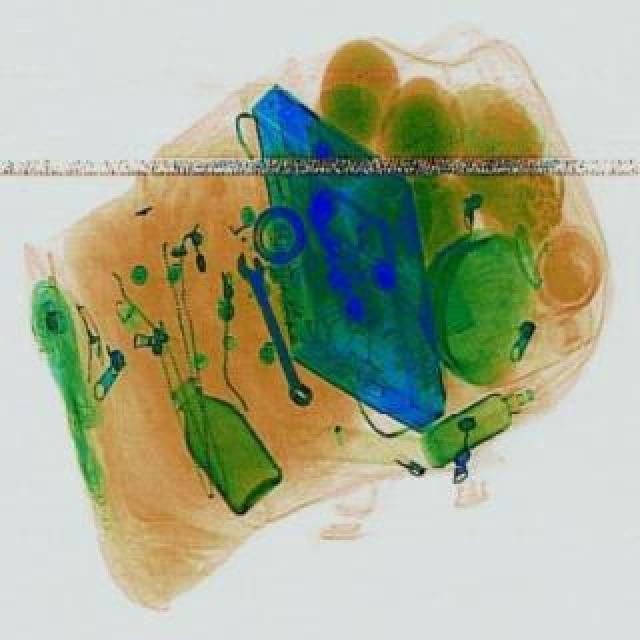scissors: (232, 246, 314, 406)
